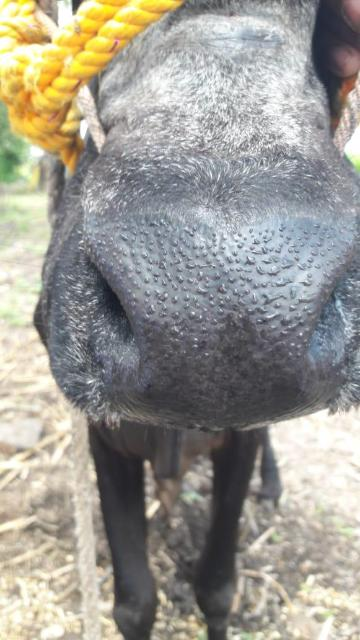Muzzle: (124, 228, 328, 427)
